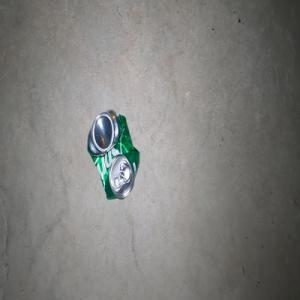SodaCan: (87, 108, 139, 199)
